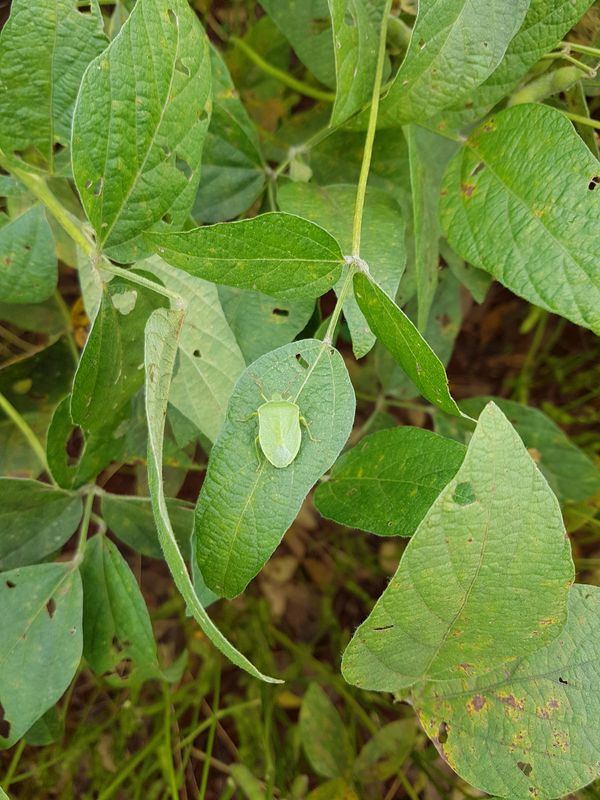Nezara_viridula_adulto: (245, 375, 323, 480)
